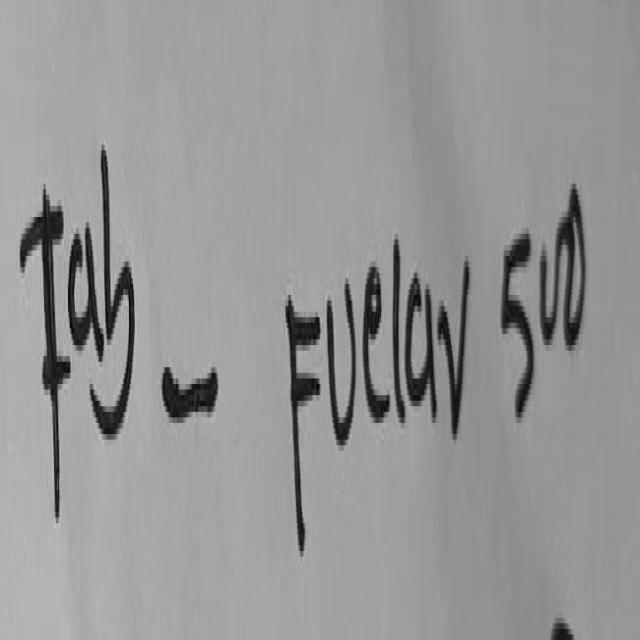0: (565, 184, 587, 342), (542, 208, 567, 337)
5: (503, 228, 535, 409)
F: (288, 295, 322, 548)
T: (21, 184, 63, 515)
a: (68, 223, 102, 353), (406, 273, 436, 415)
b: (91, 145, 134, 431)
c: (364, 273, 390, 415)
l: (395, 234, 406, 417)
u: (327, 278, 356, 442)
v: (439, 256, 470, 431)
